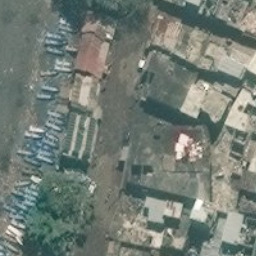buildings: (133, 49, 227, 127), (117, 126, 217, 198), (62, 109, 104, 170), (153, 1, 223, 32), (82, 11, 123, 52), (223, 88, 256, 136), (74, 34, 109, 79), (70, 76, 106, 118), (145, 193, 184, 227), (226, 212, 256, 254), (189, 196, 218, 230), (217, 54, 247, 83), (241, 48, 256, 76)
